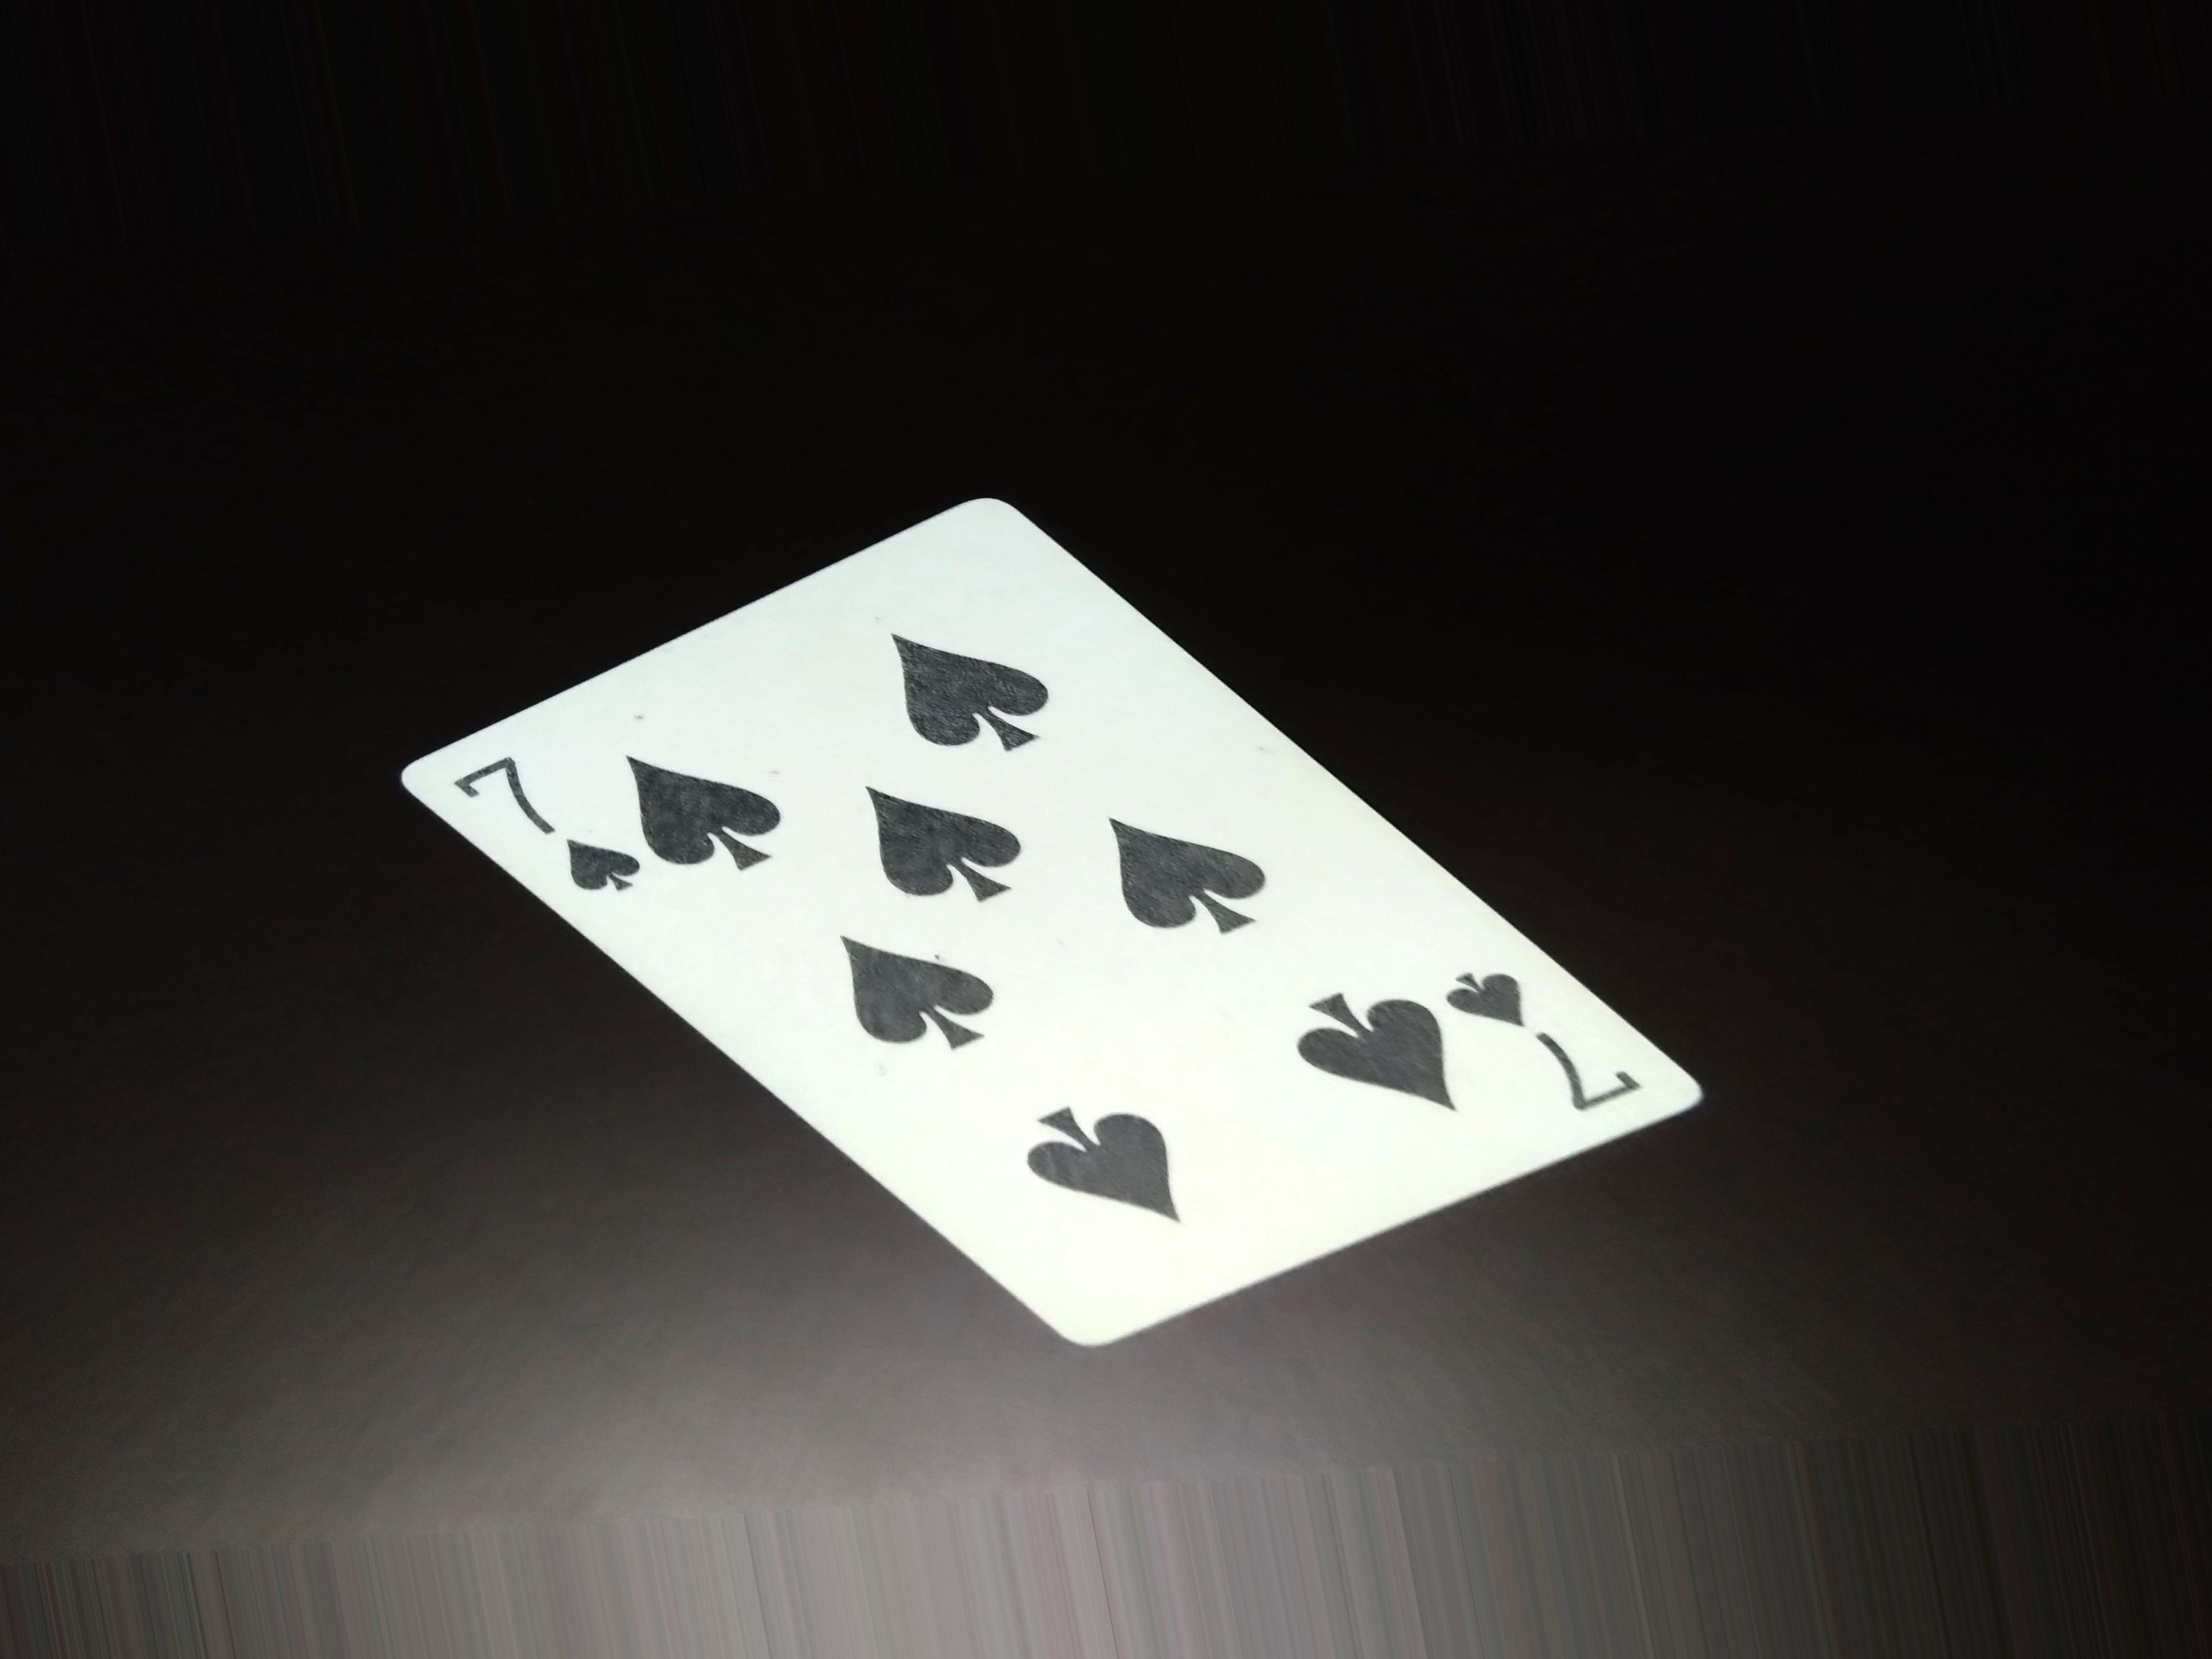7S: (441, 753, 650, 951)
